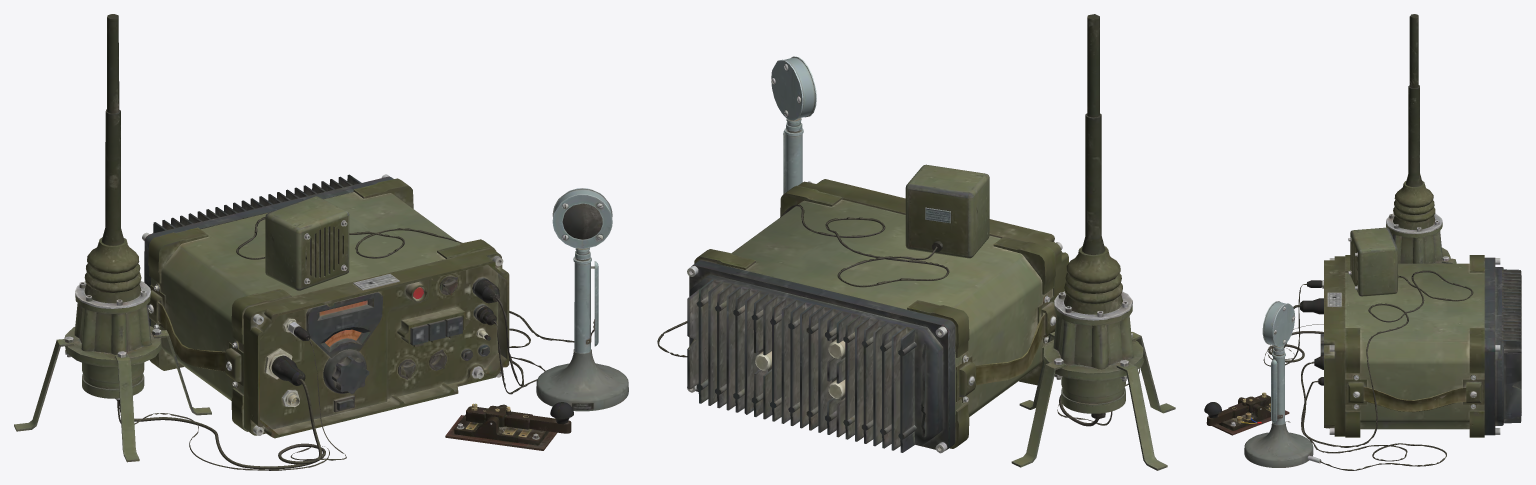
The model's file is vintage_radio_transceiver.glb.
3 views of the same model, side by side, from view 1: azimuth 30°, elevation 25°; view 2: azimuth 150°, elevation 25°; view 3: azimuth 270°, elevation 25° (orthographic). The views are drawn at different scales.
Visible parts, largest first — view 1: vintage_radio_transceiver, vintage_radio_transceiver_antenna, vintage_radio_transceiver_microphone, vintage_radio_transceiver_speaker, vintage_radio_transceiver_cables, vintage_radio_transceiver_morse_key_base, vintage_radio_transceiver_morse_key_arm, vintage_radio_transceiver_dial, vintage_radio_transceiver_antenna_plug_a; view 2: vintage_radio_transceiver, vintage_radio_transceiver_antenna, vintage_radio_transceiver_speaker, vintage_radio_transceiver_microphone, vintage_radio_transceiver_cables; view 3: vintage_radio_transceiver, vintage_radio_transceiver_antenna, vintage_radio_transceiver_microphone, vintage_radio_transceiver_speaker, vintage_radio_transceiver_cables, vintage_radio_transceiver_morse_key_arm, vintage_radio_transceiver_morse_key_base.
Boxes of the visible parts, box(x1,y1,x2,y2) form: vintage_radio_transceiver: box(142, 174, 509, 438); vintage_radio_transceiver_antenna: box(14, 14, 211, 462); vintage_radio_transceiver_microphone: box(536, 188, 628, 411); vintage_radio_transceiver_speaker: box(265, 196, 349, 290); vintage_radio_transceiver_cables: box(117, 217, 574, 470); vintage_radio_transceiver_morse_key_base: box(445, 404, 557, 450); vintage_radio_transceiver_morse_key_arm: box(466, 402, 573, 433); vintage_radio_transceiver_dial: box(323, 329, 369, 393); vintage_radio_transceiver_antenna_plug_a: box(271, 355, 305, 385); vintage_radio_transceiver: box(687, 179, 1068, 453); vintage_radio_transceiver_antenna: box(1011, 14, 1175, 470); vintage_radio_transceiver_speaker: box(905, 164, 989, 258); vintage_radio_transceiver_microphone: box(771, 56, 816, 194); vintage_radio_transceiver_cables: box(657, 204, 1139, 426); vintage_radio_transceiver: box(1324, 255, 1521, 437); vintage_radio_transceiver_antenna: box(1386, 14, 1456, 263); vintage_radio_transceiver_microphone: box(1244, 301, 1321, 467); vintage_radio_transceiver_speaker: box(1348, 227, 1397, 296); vintage_radio_transceiver_cables: box(1263, 270, 1473, 470); vintage_radio_transceiver_morse_key_arm: box(1204, 392, 1270, 425); vintage_radio_transceiver_morse_key_base: box(1206, 397, 1289, 435).
Bounding box in the file's own units: 0.574 × 0.4344 × 0.4131.
2 materials, 2 textured.
